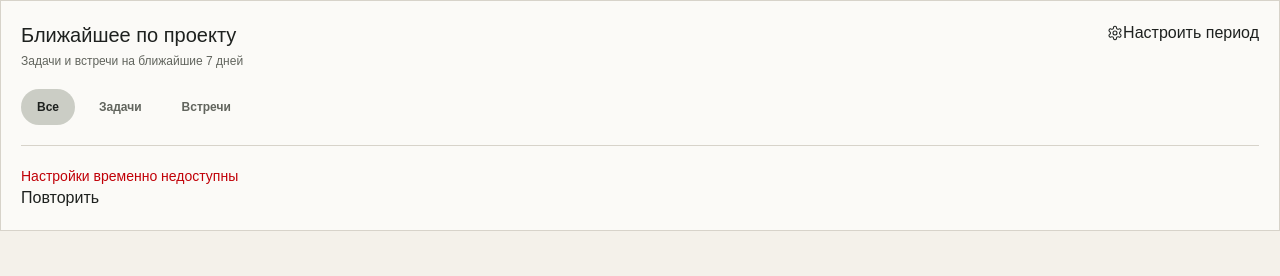
Test: ProjectUpcoming › retries a failed settings request before loading the project feed
Expected: the message shows "Настройки временно недоступны", 21,168 -> 238,184
Click the button "Повторить" at (60, 198), box 21,186 -> 99,210
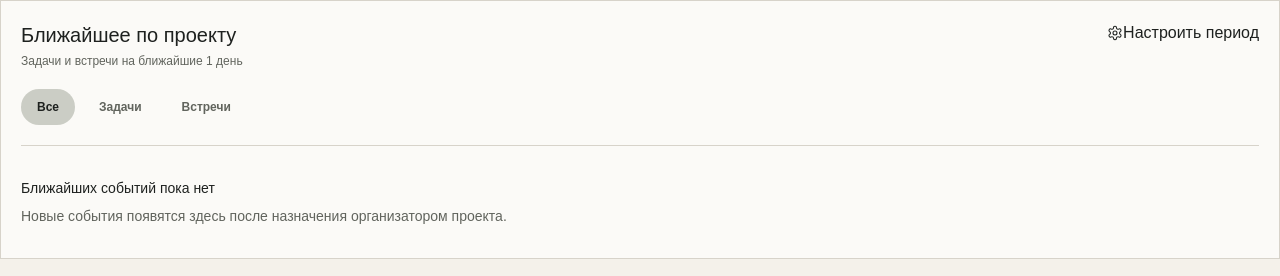
Expected: the text "Задачи и встречи на ближайшие 1 день" is shown, 21,53 -> 243,69
